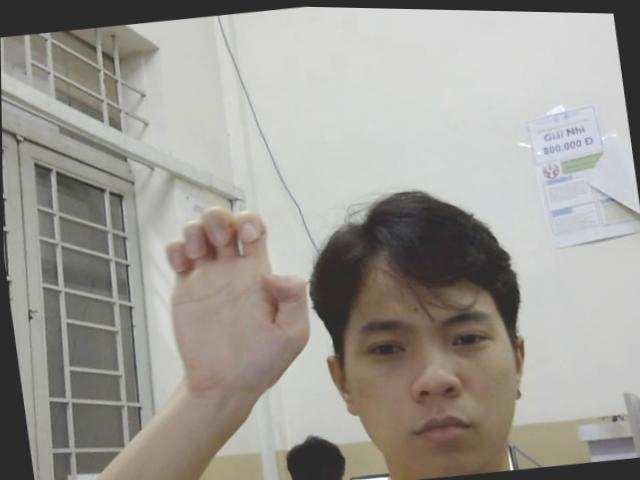E: (152, 192, 317, 393)
